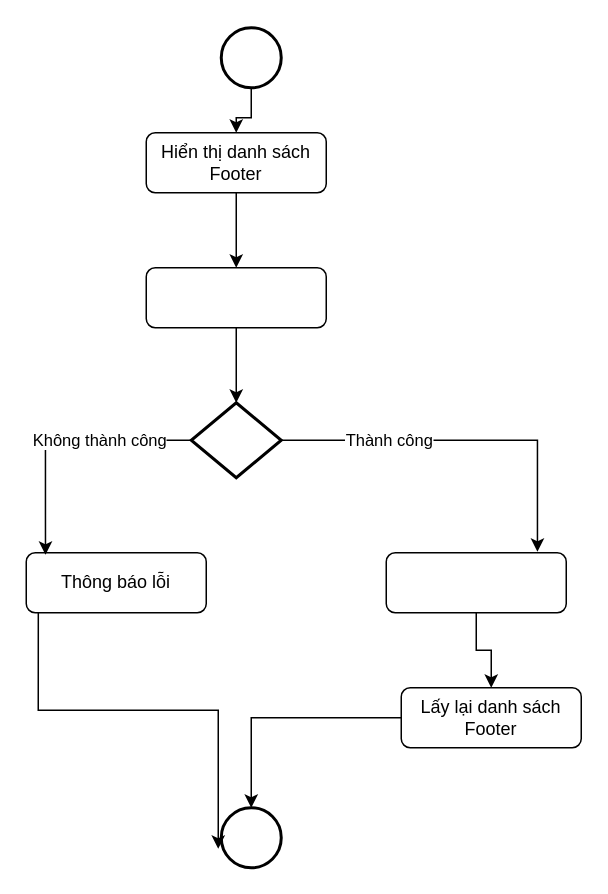
Image size: 608x894. Some labels were removed from this diagram. The box of each missing label's shape, as (x1, y1, x2, y2) in pixels:
Thông báo Xóa thành công: (385, 551, 566, 613)
Xóa: (145, 266, 326, 328)
